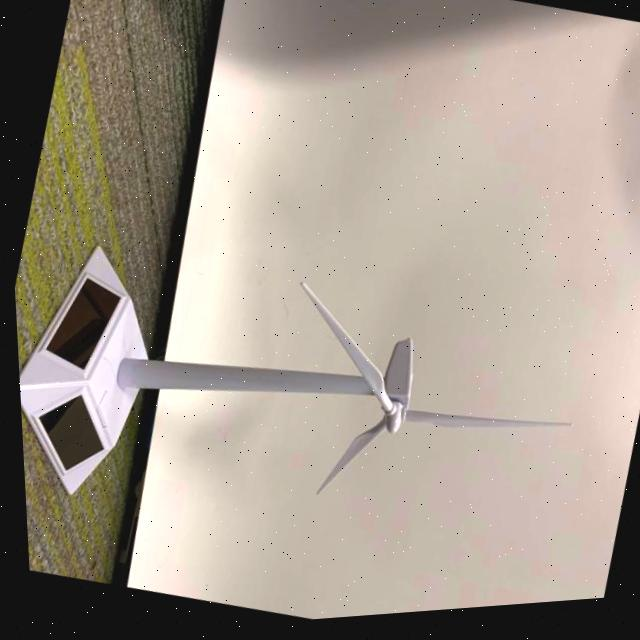solid-blade: (296, 287, 386, 418), (310, 423, 379, 499), (398, 416, 566, 435)
